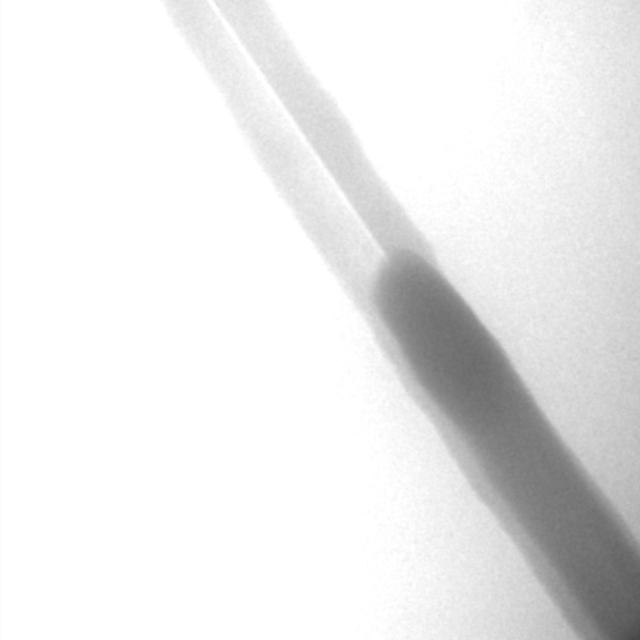broken arc: (212, 4, 386, 259)
